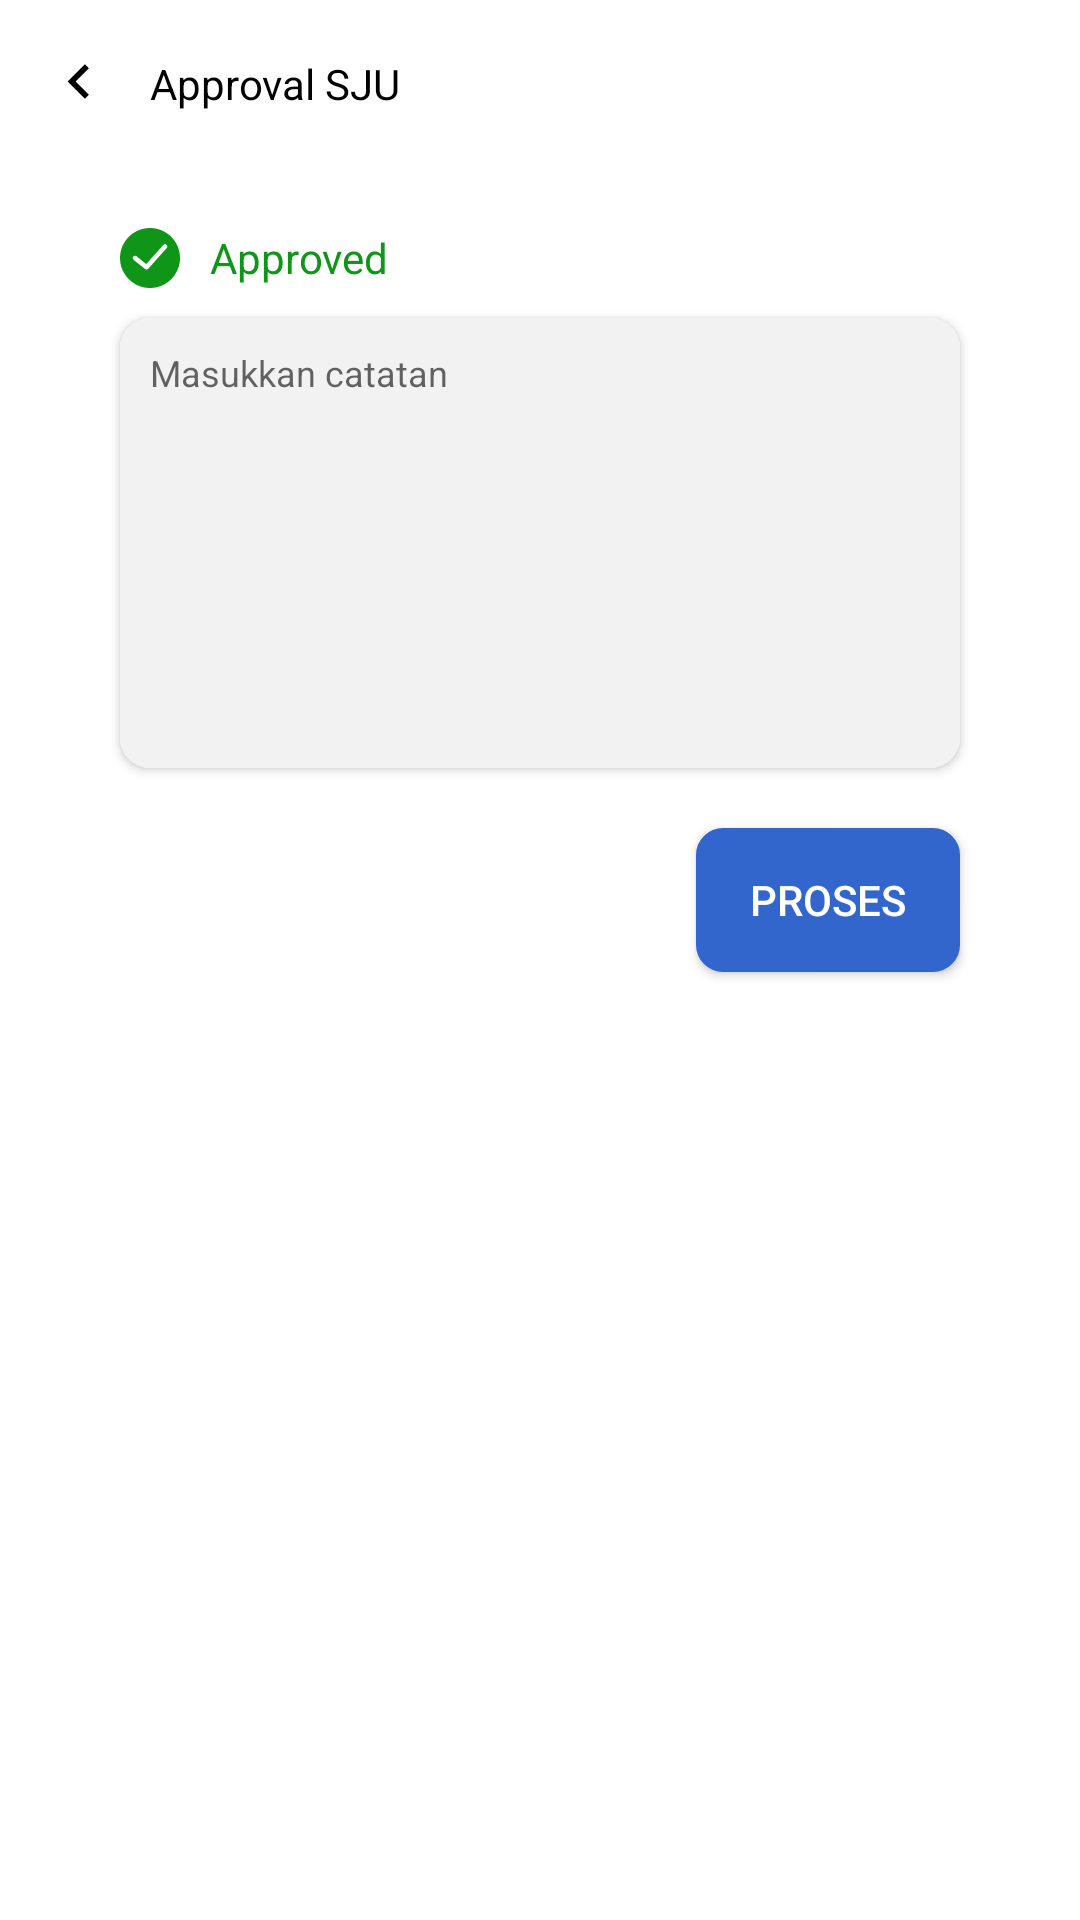

Named icons in this screenshot (1080×1920) and their centers, (x,y):
back: (78,81)
